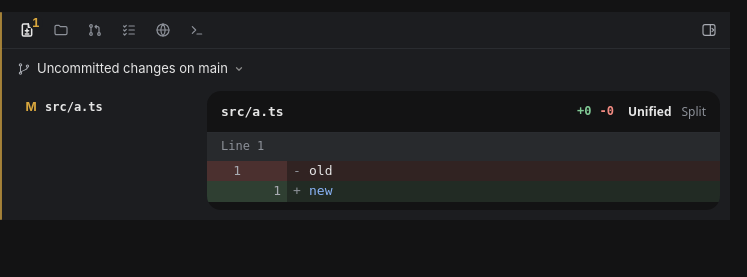
Test case: WorkspacePanel › shows what another branch adds in Changes, without switching anything
Select "feature" in the dropdown named "Show changes from" at x=140, y=69, box top-left (37, 57), bottom-right (244, 81)
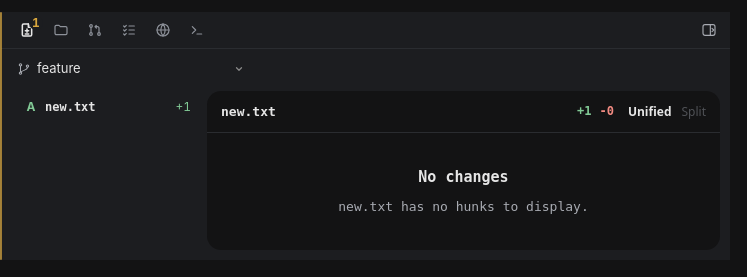
Expected: the 1st text "new.txt" is shown, top-left (45, 98), bottom-right (96, 116)
Expected: the button "src/a.ts" is gone
Select "Uncommitted changes on main" in the dropdown named "Show changes from" at x=140, y=69, box top-left (37, 57), bottom-right (244, 81)
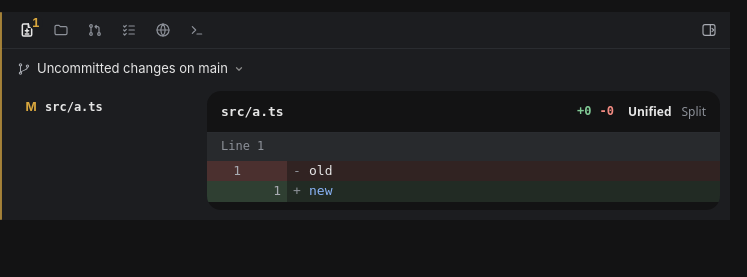
Expected: the button "new.txt" is gone
